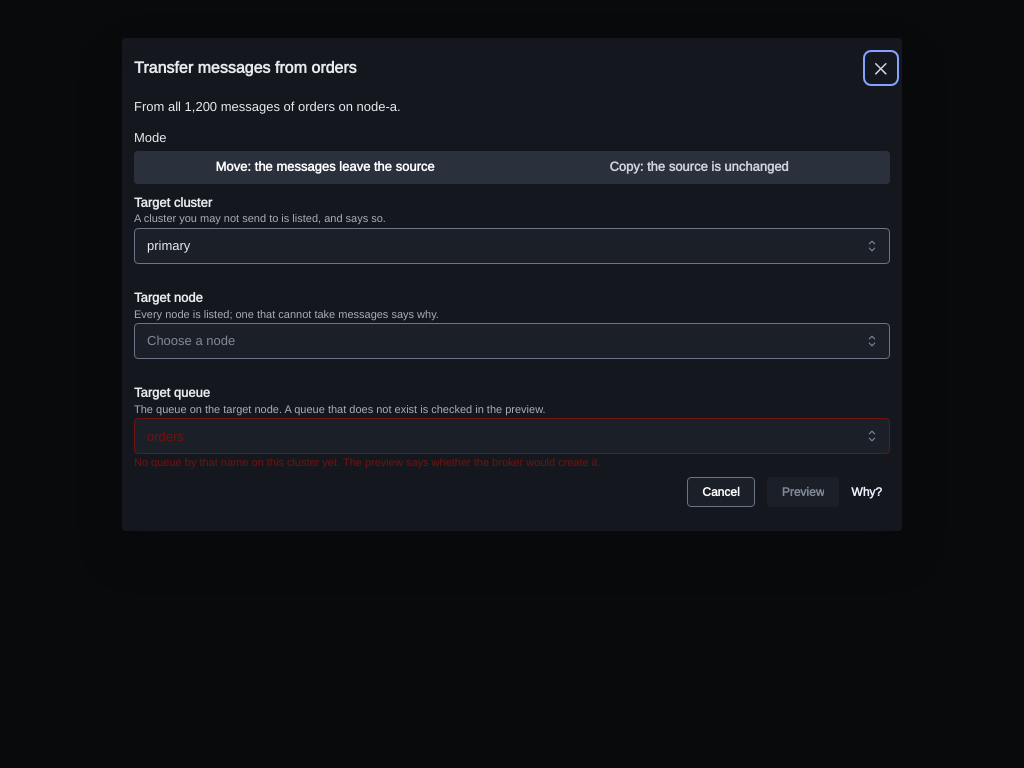
Test: TransferDialog what may not be done › keeps preview visible but disabled, with the broker refusal, when the source cannot be managed
Expected: the button "Preview" is disabled, [767,477,839,507]
Click the button with aria-label "Why previewing this transfer is unavailable": (867, 492) [843,480,890,504]
(page scrolled)
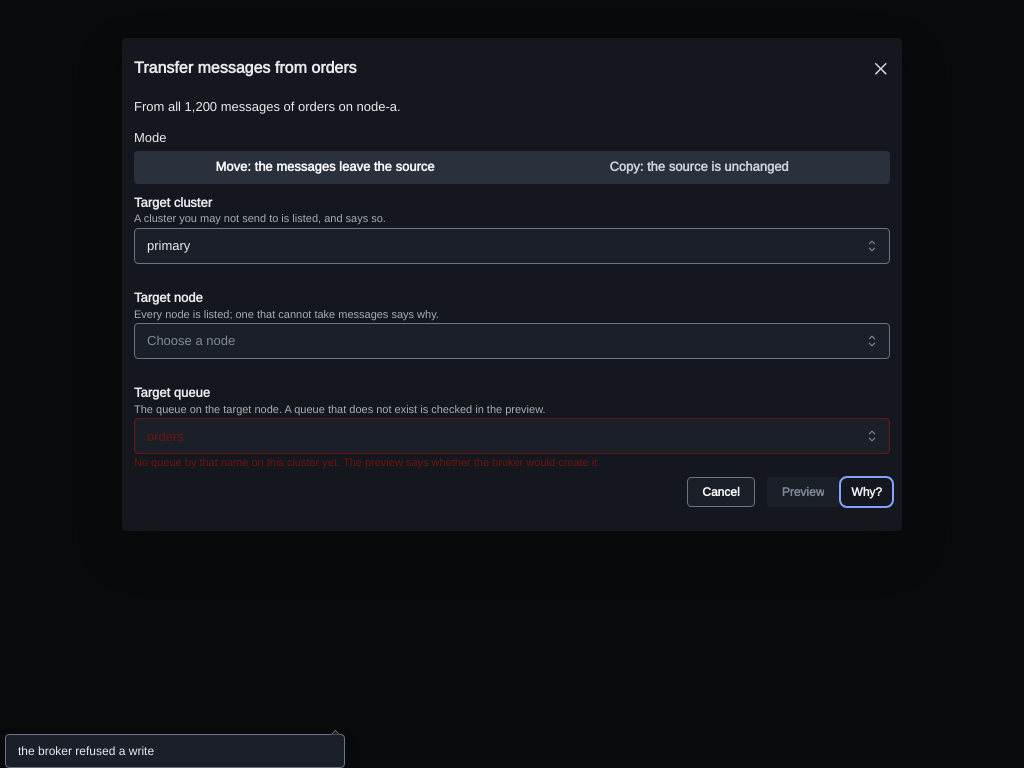
Expected: the text "the broker refused a write" is shown, [18,742,154,758]
